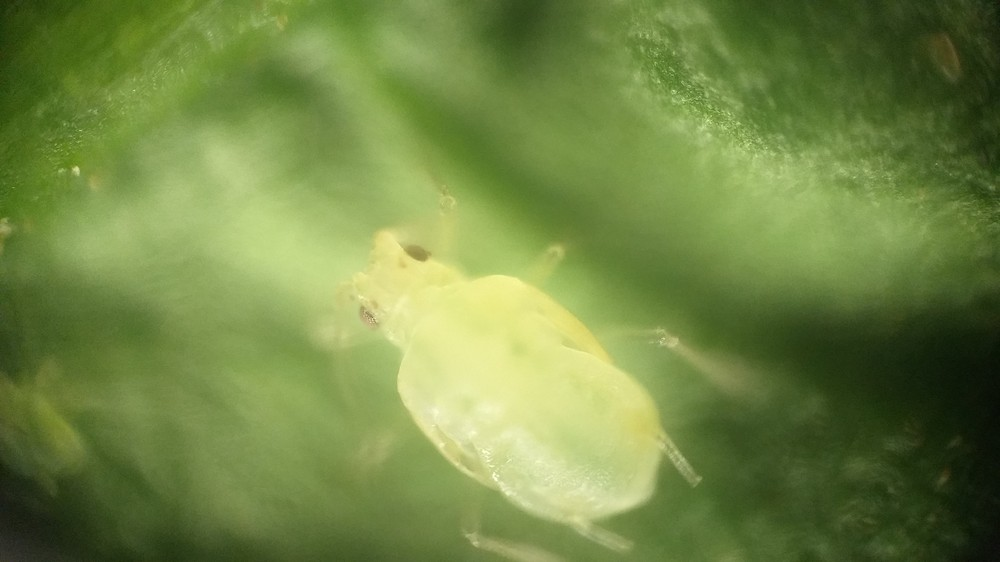Pulgon: (272, 171, 791, 560)
